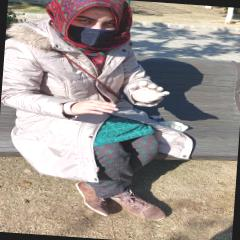gloved: (126, 79, 170, 105)
not-gloved: (72, 98, 119, 117)
